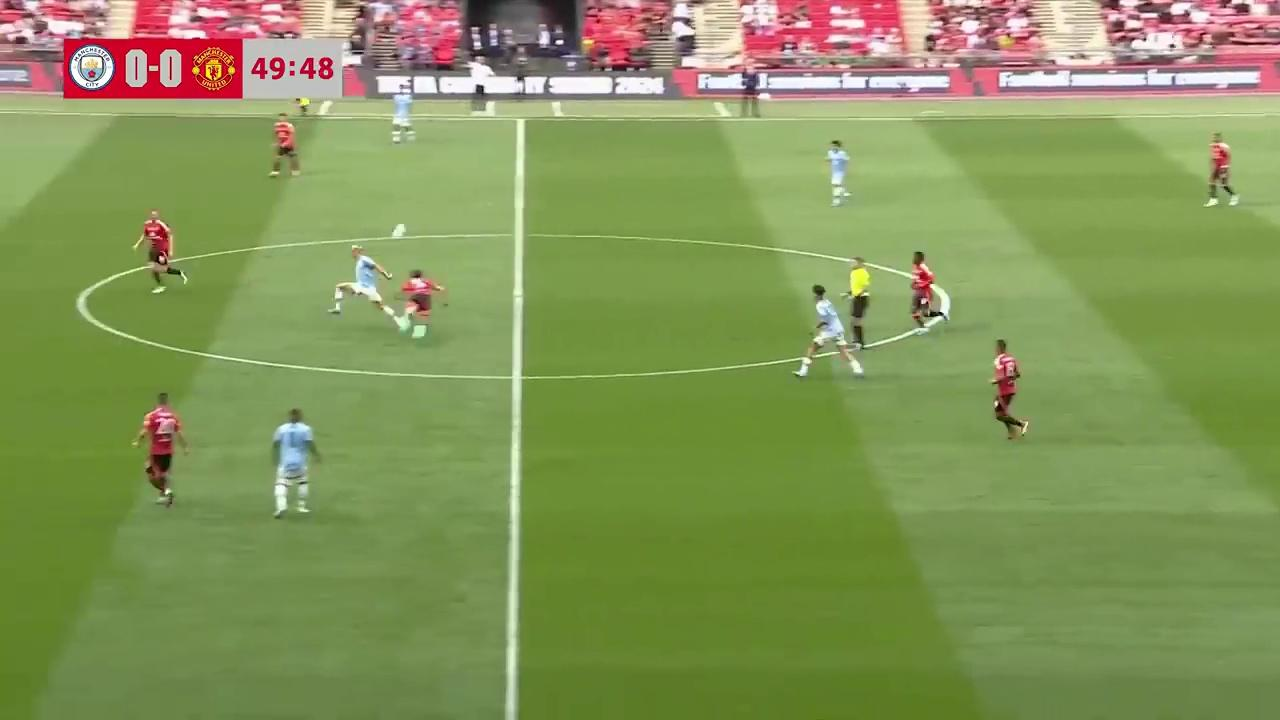ball: (391, 219, 407, 241)
player: (132, 391, 188, 508), (794, 284, 858, 380), (270, 407, 321, 519), (332, 245, 395, 320), (134, 209, 188, 292), (988, 338, 1026, 441), (393, 268, 446, 340), (909, 251, 941, 332), (1205, 133, 1239, 207), (269, 113, 301, 178), (823, 139, 852, 207), (390, 89, 415, 144)
referee: (843, 256, 872, 358), (293, 90, 317, 119)
